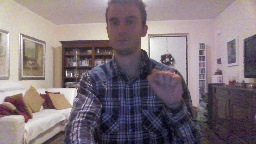Pugno: (144, 66, 184, 110)
